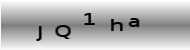1: (81, 12, 97, 26)
J: (34, 25, 44, 42)
Q: (53, 24, 72, 40)
a: (127, 16, 141, 28)
h: (109, 17, 125, 32)
